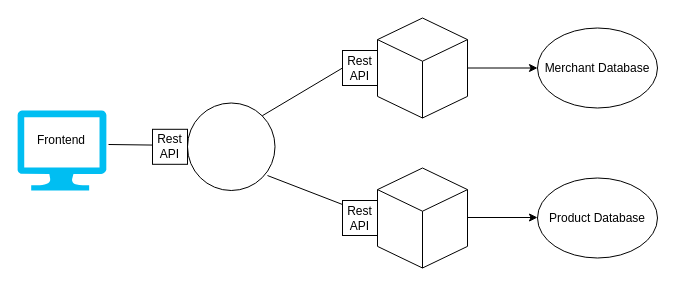
Some shapes in this 675 by 285 pixel diagram are drawn without their labels. Here are the shapes that lost their labels. From the top down, the centre of each, then its label:
At point 422,67: "Merchant Service".
At point 230,146: "API GATEWAY".
At point 422,217: "Product Service".
